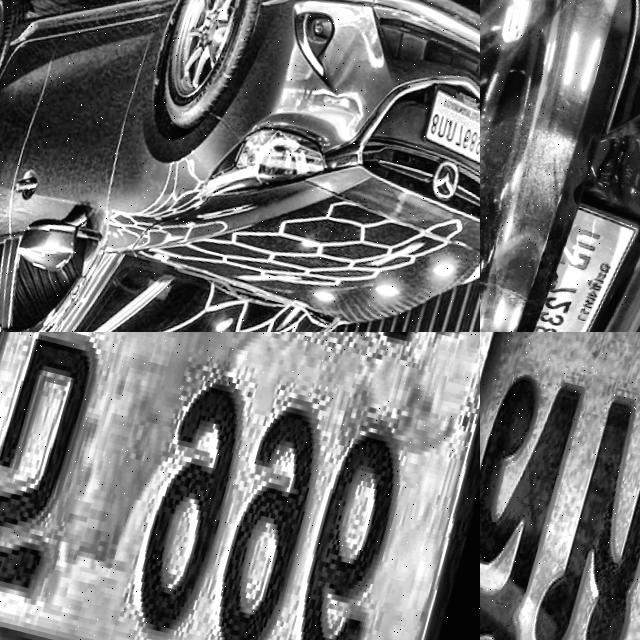license-plate: (0, 332, 480, 640), (480, 332, 640, 640), (512, 180, 627, 299), (415, 77, 480, 170)
